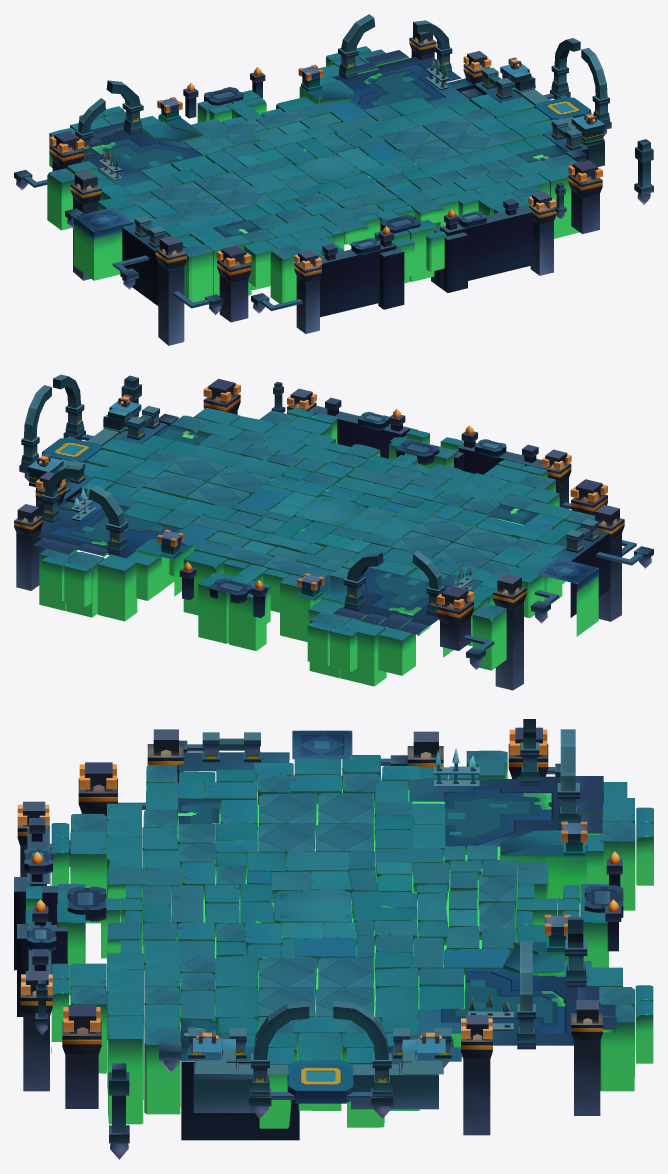
The picture shows the model from 3 angles, top to bottom: view 1: azimuth 30°, elevation 25°; view 2: azimuth 150°, elevation 25°; view 3: azimuth 270°, elevation 25°; orthographic projection. The views are drawn at different scales.
Visible parts, largest first — view 1: an01, an02, stone01; view 2: an01, an02; view 3: an01, an02, stone01.
Part boxes in pixels (left/top/right/bottom): an01: left=14, top=14, right=611, bottom=345; an02: left=49, top=57, right=602, bottom=322; stone01: left=634, top=139, right=653, bottom=204; an01: left=14, top=374, right=653, bottom=690; an02: left=37, top=378, right=607, bottom=650; an01: left=14, top=719, right=653, bottom=1140; an02: left=62, top=727, right=623, bottom=1108; stone01: left=108, top=1063, right=129, bottom=1159.
Size of the model in its own units: 34.66 by 9.24 by 25.34.
2 materials, 2 textured.
